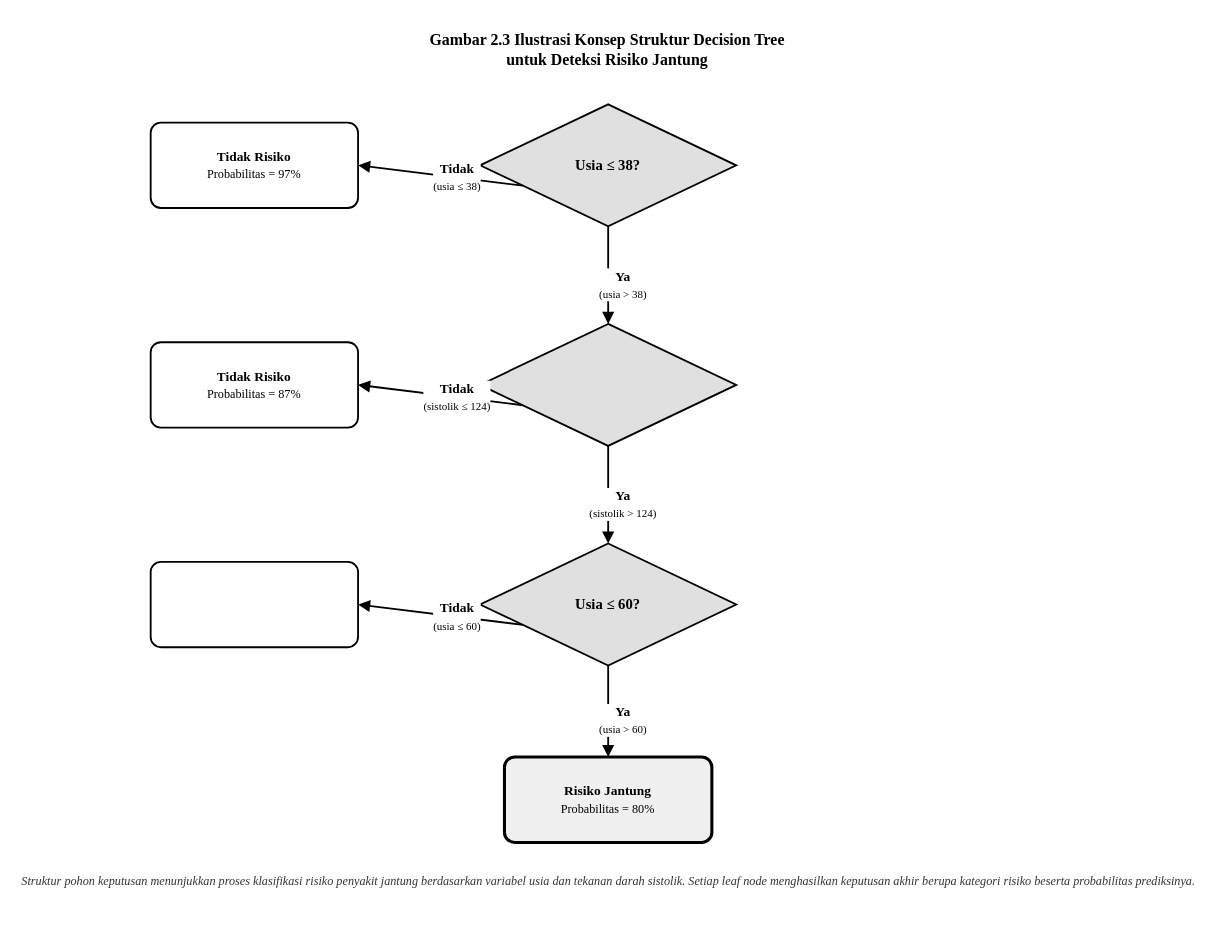
The diagram is 1215 pixels wide and 942 high, and some of its shapes have lost their labels. Here are the shapes that lost their labels. From the top down, the box of each, then its label:
(479, 322, 737, 446): Sistolik ≤ 124?
(149, 560, 358, 648): Tidak Risiko Probabilitas = 57%
